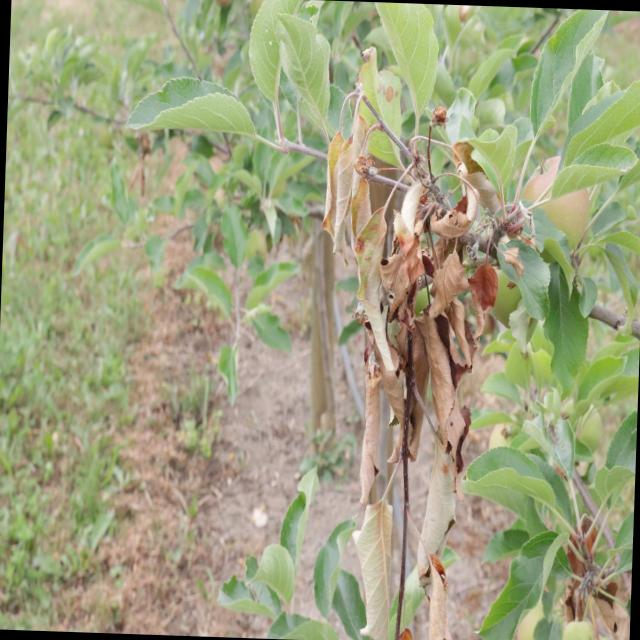-FireBlight-: (300, 88, 520, 640), (554, 488, 634, 640)
